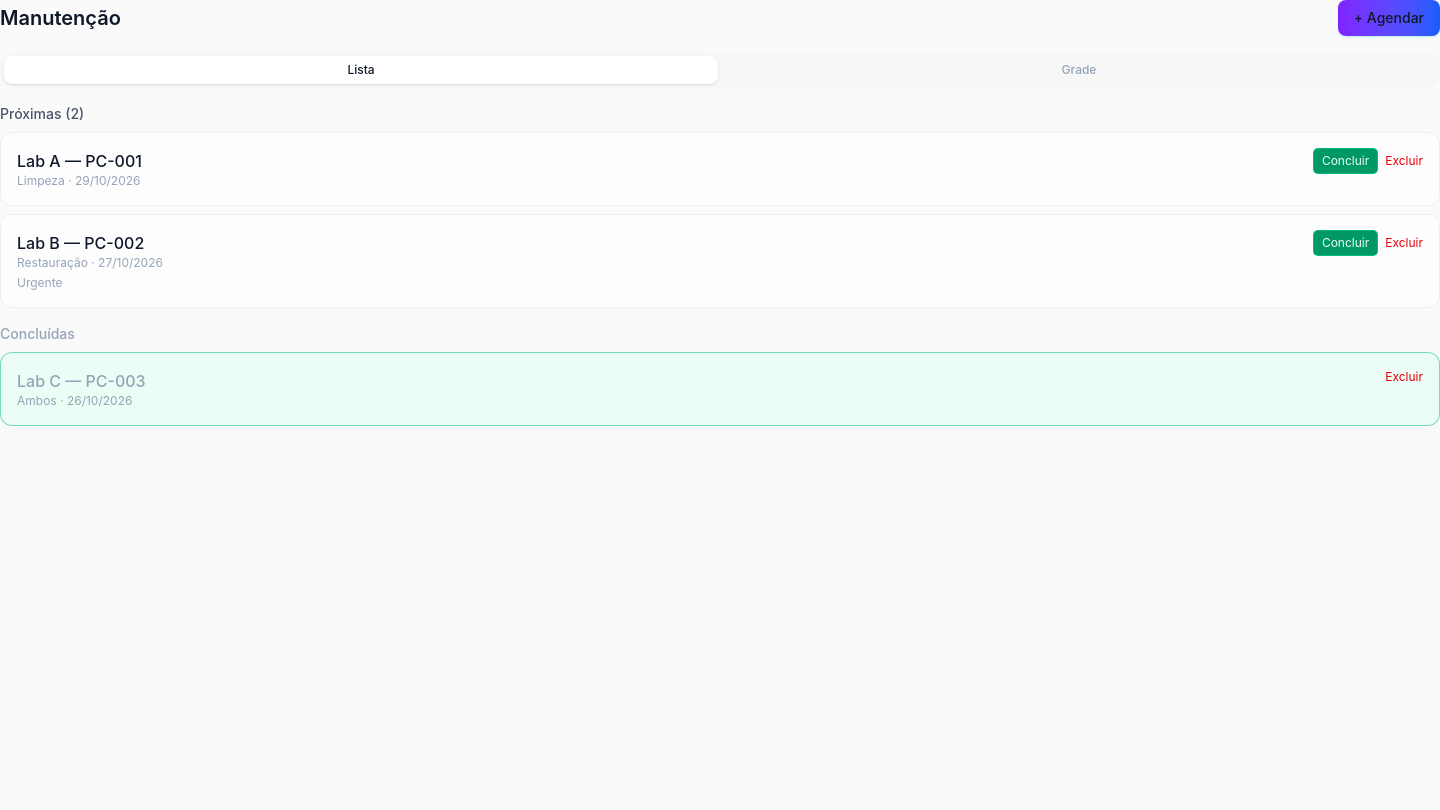
Scenario: Maintenance › fecha formulário ao clicar "Cancelar"
This screenshot has width=1440, height=810.
Click the button "+ Agendar": (1389, 18) [1338,0,1439,36]
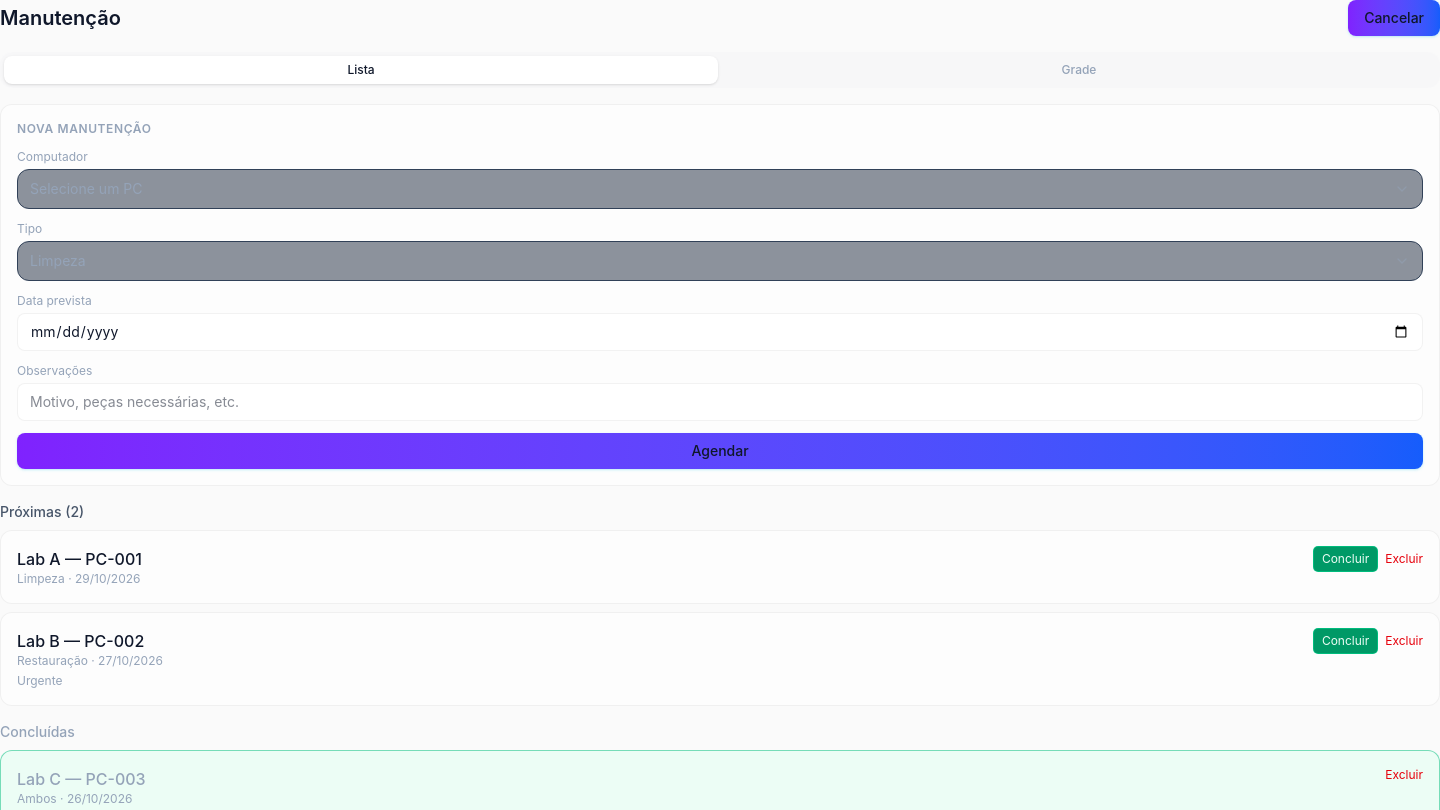
expect the heading "Nova Manutenção" is shown: met, box [17,121,152,136]
Click the button "Cancelar": (1394, 18) [1348,0,1439,36]
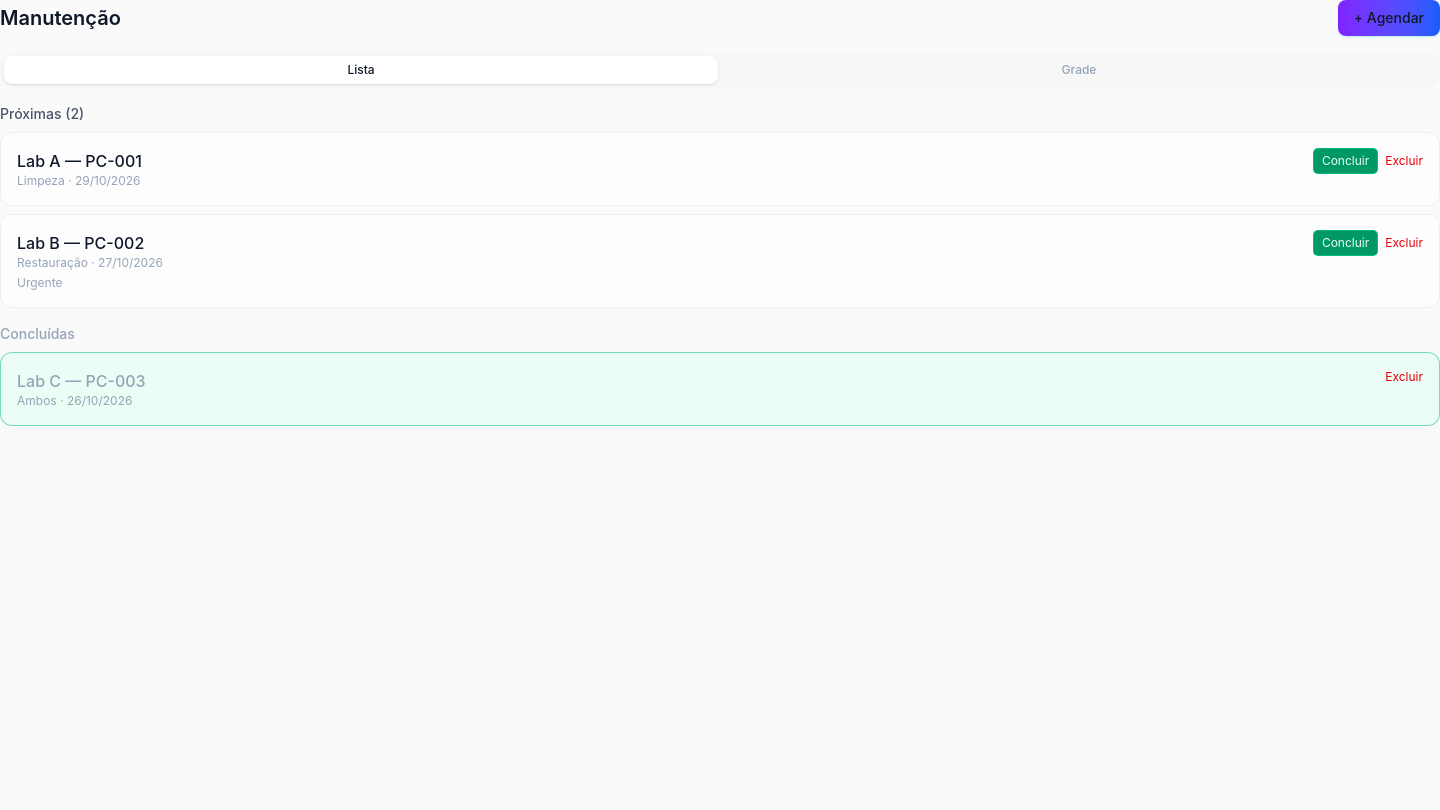
expect the heading "Nova Manutenção" is gone: met
